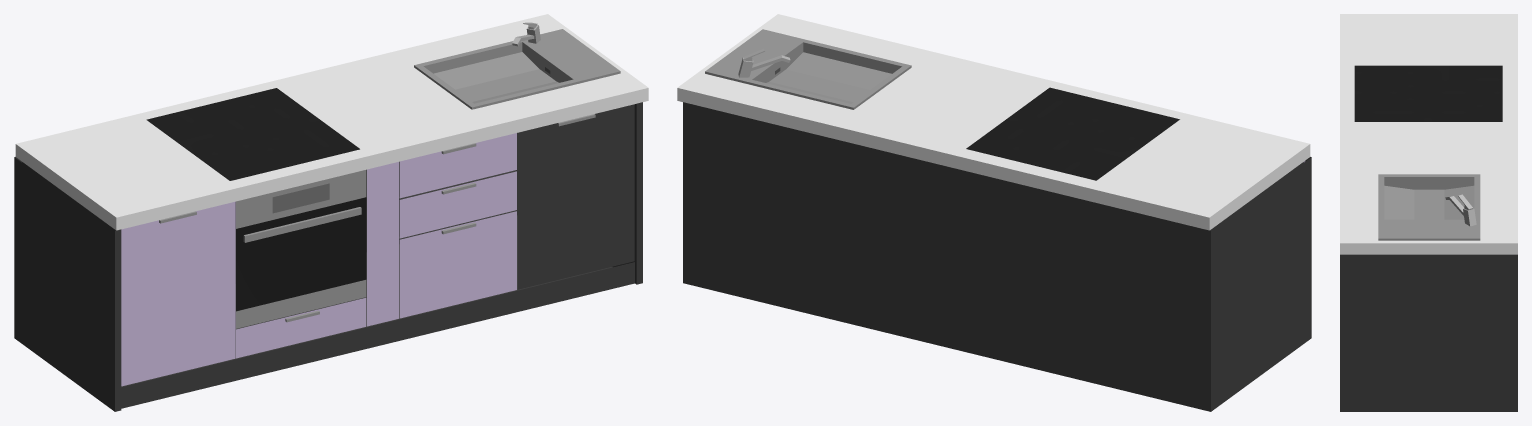
File: ESTUFA.obj
3 renders of one model, left to right at view 1: azimuth 30°, elevation 25°; view 2: azimuth 150°, elevation 25°; view 3: azimuth 270°, elevation 25°, orthographic. The views are drawn at different scales.
Parts seen in each view (by area): view 1: kitchen_table_001; view 2: kitchen_table_001; view 3: kitchen_table_001.
Boxes of the visible parts, box(x1,y1,x2,y2) form: kitchen_table_001: box(14, 14, 648, 411); kitchen_table_001: box(677, 14, 1311, 411); kitchen_table_001: box(1340, 14, 1517, 411).
Size of the model in its own units: 2.61 by 1.04 by 0.8533.
1 material, 1 textured.
